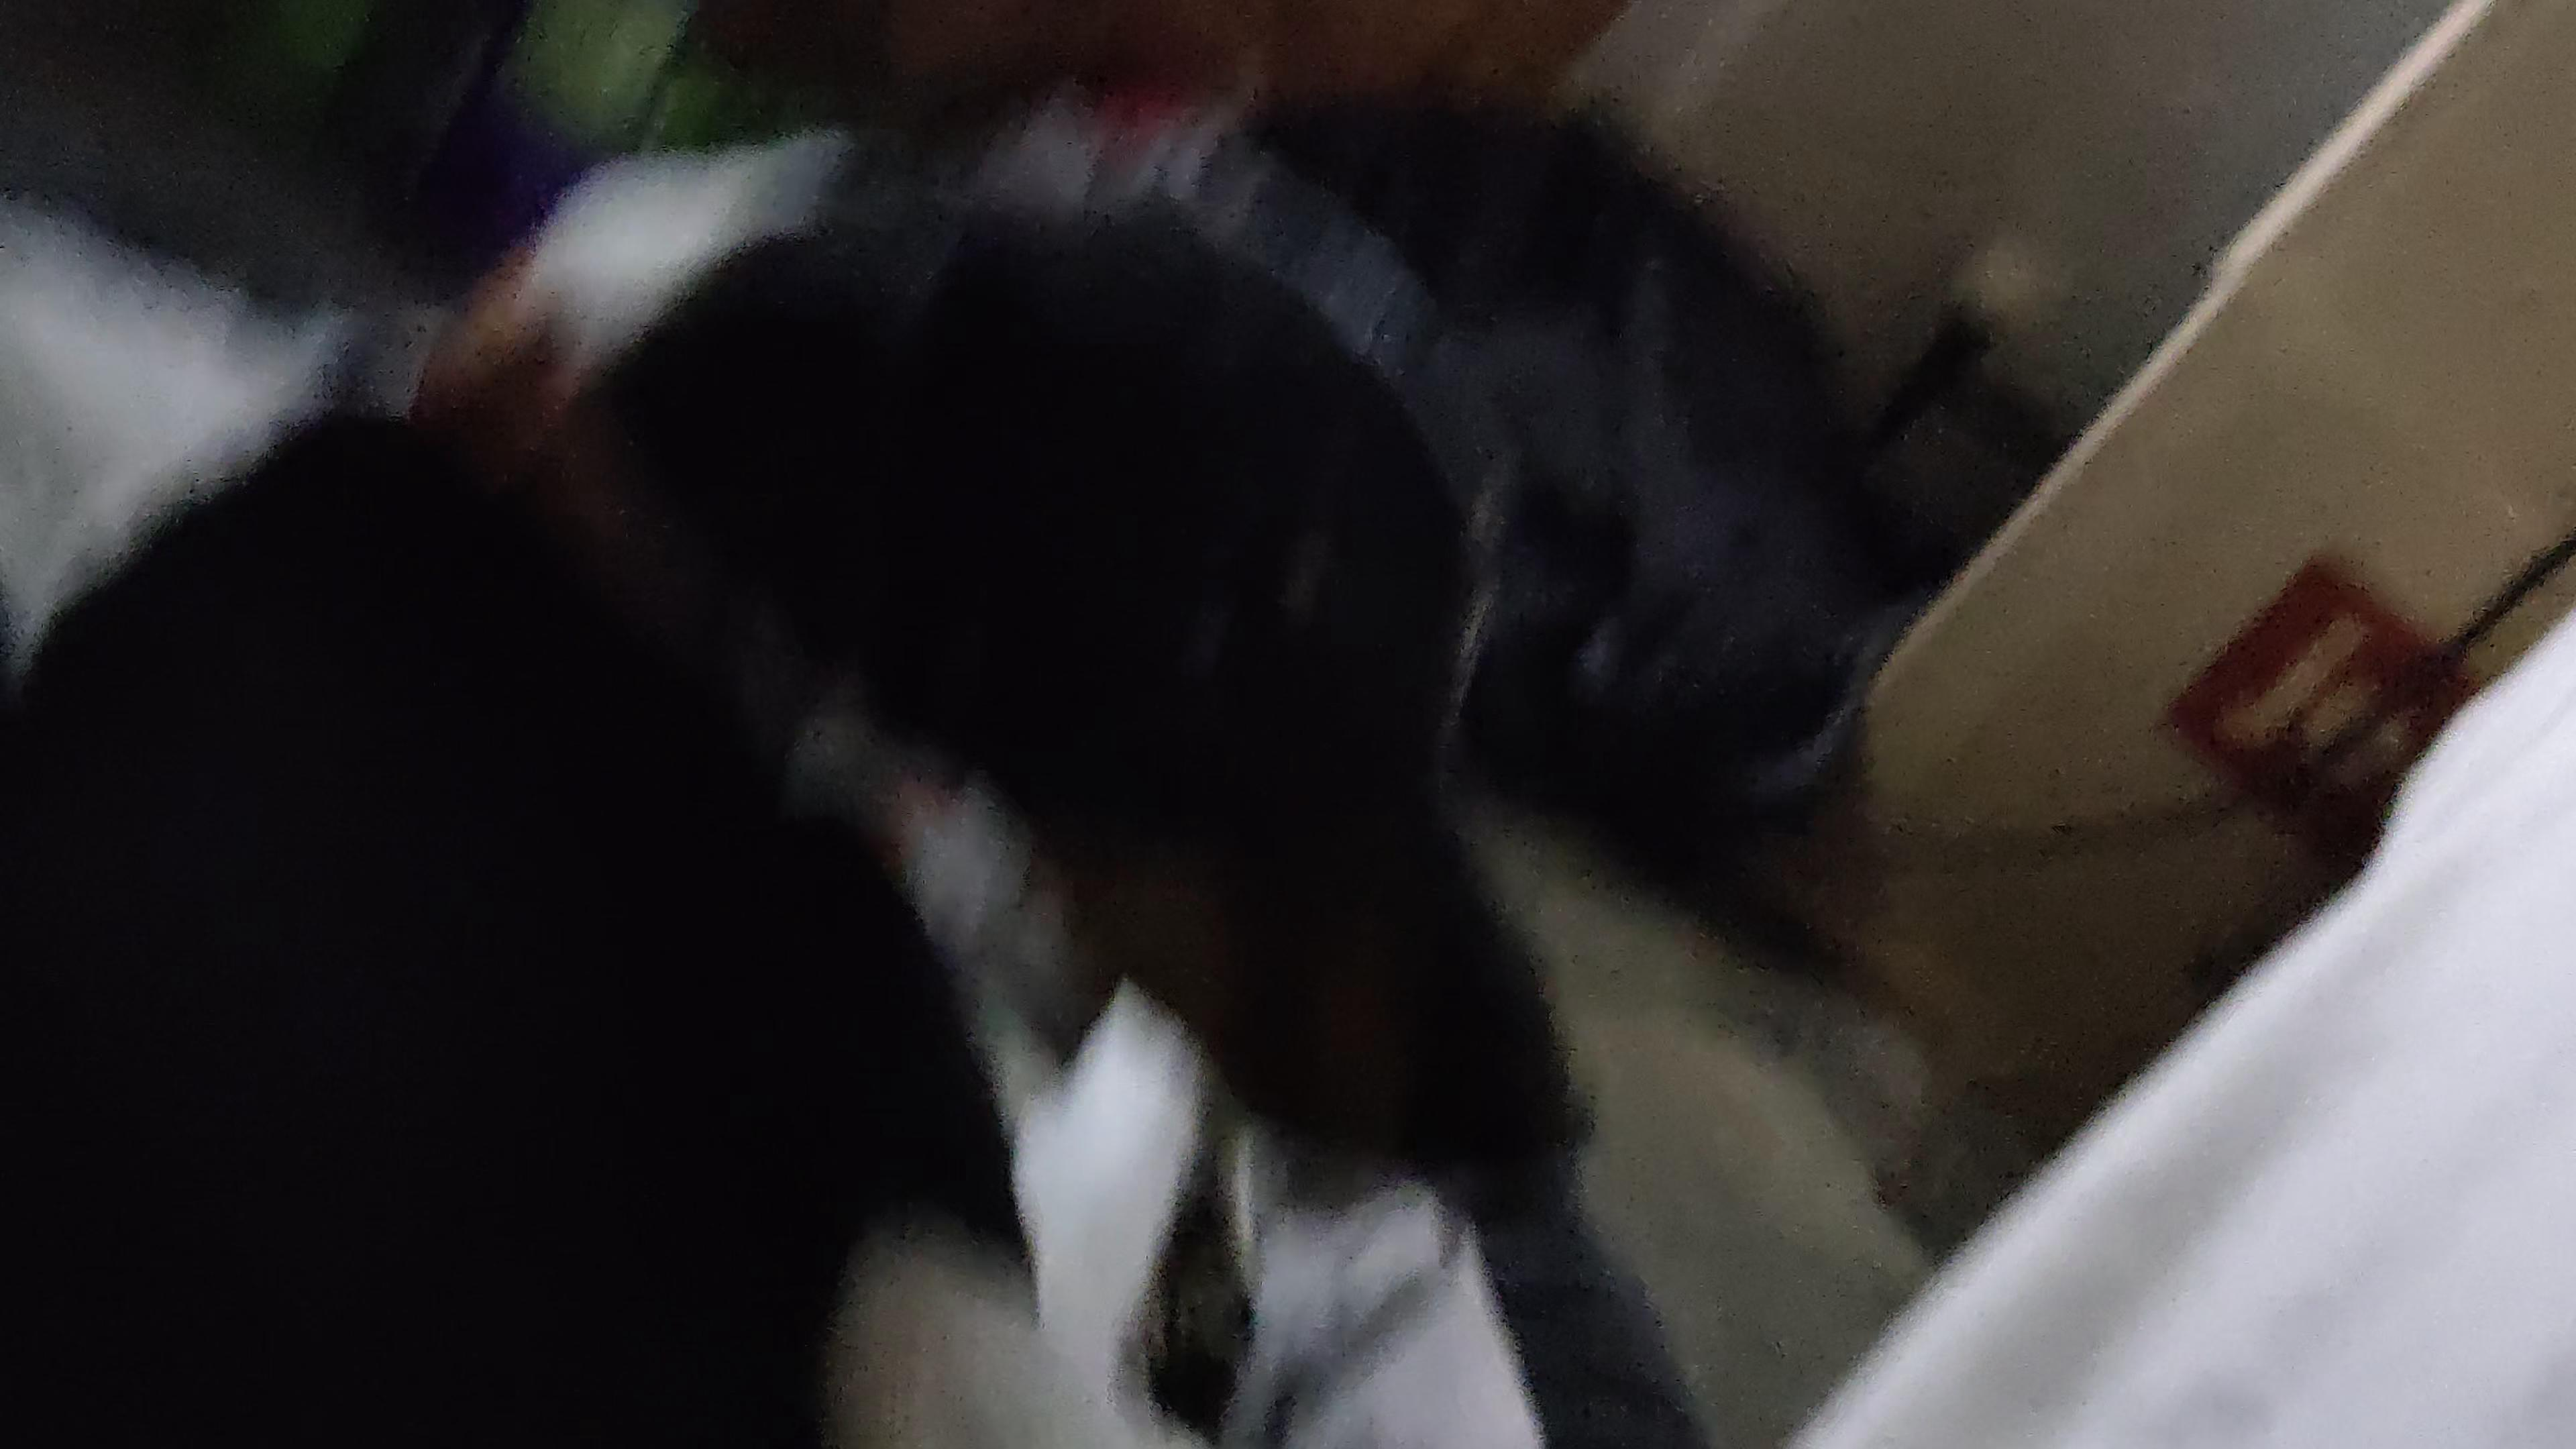Dog: (11, 80, 1656, 1449)
